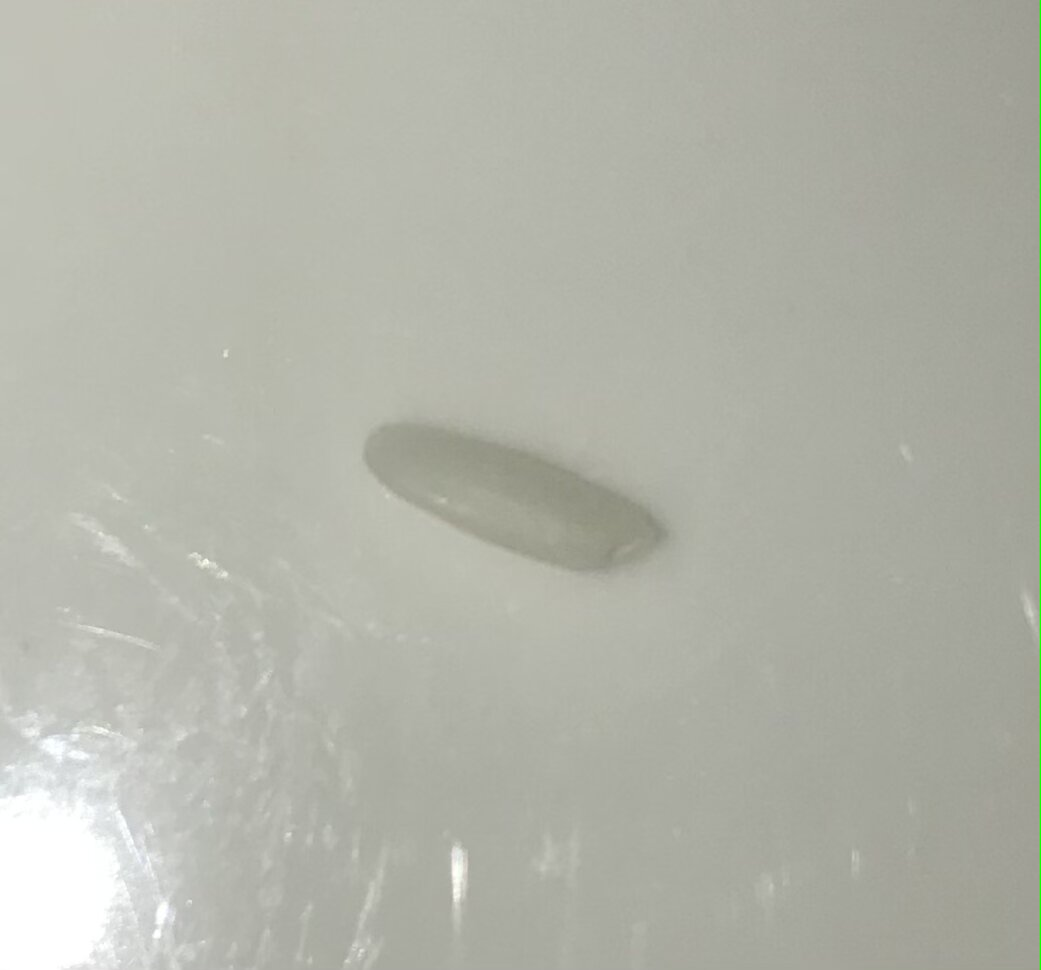Gao Lai Sua: (361, 411, 668, 586)
